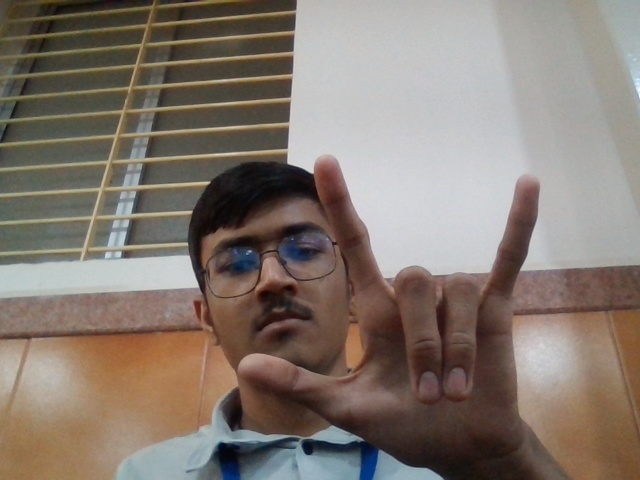I_Love_You: (236, 149, 552, 463)
